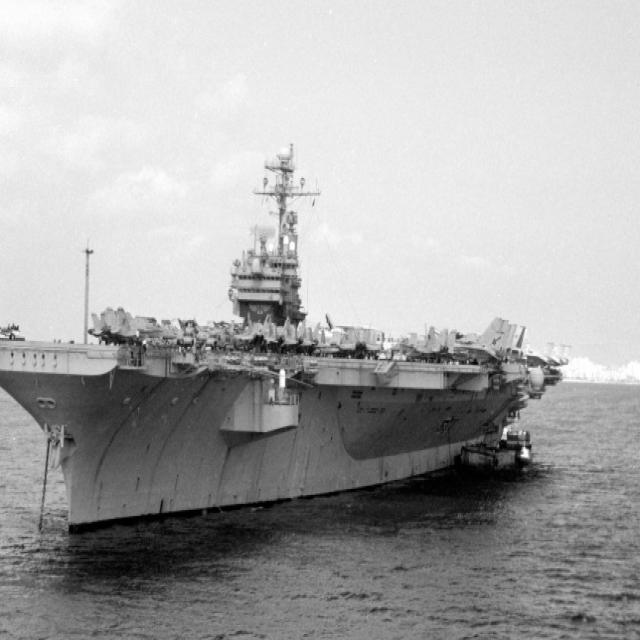Portanaves: (1, 117, 572, 546)
